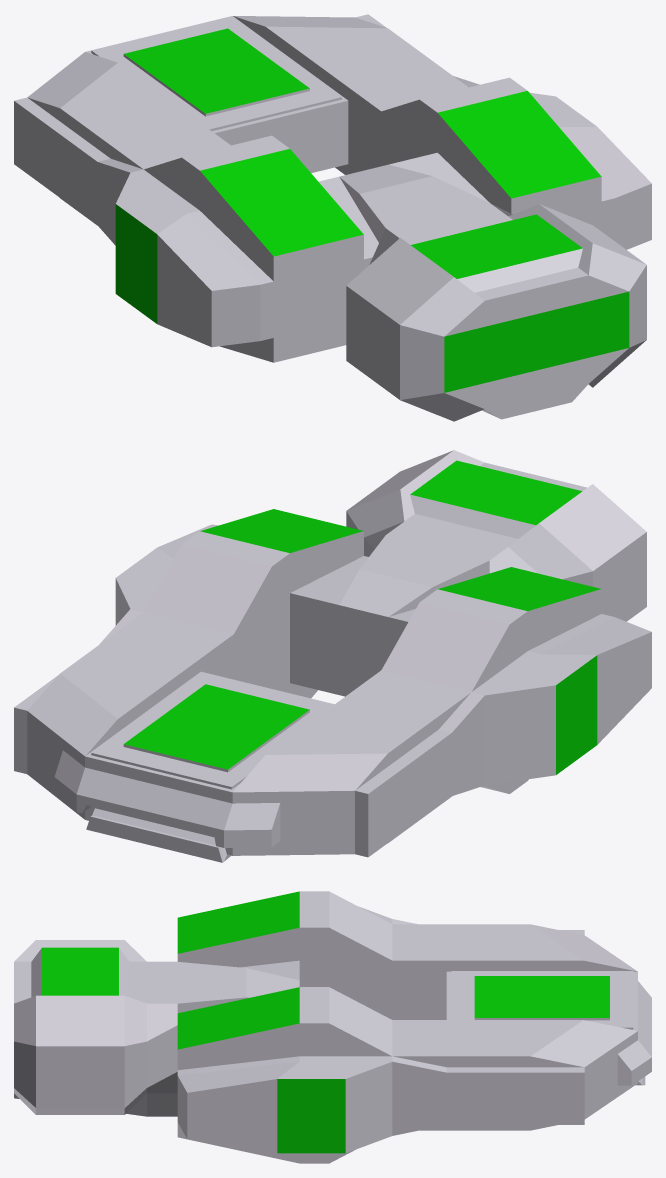
Rendered from hull.joined.fbx.
The picture shows the model from 3 angles, top to bottom: view 1: azimuth 30°, elevation 25°; view 2: azimuth 150°, elevation 25°; view 3: azimuth 270°, elevation 25°; orthographic projection. The views are drawn at different scales.
Visible parts, largest first — view 1: hull.joined; view 2: hull.joined; view 3: hull.joined.
Part boxes in pixels (bbox=[...]): hull.joined: bbox=[14, 14, 651, 421]; hull.joined: bbox=[14, 450, 651, 862]; hull.joined: bbox=[14, 891, 651, 1163].
Bounding box in the file's own units: 6.08 × 2.32 × 9.25.
